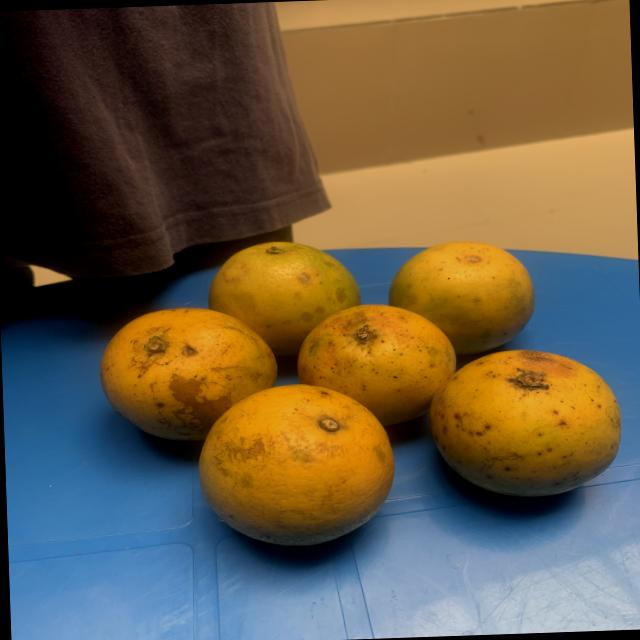Ripe orange: (180, 378, 407, 548), (434, 335, 632, 507), (85, 302, 282, 454), (184, 222, 366, 343), (388, 235, 536, 362), (303, 300, 453, 416)
